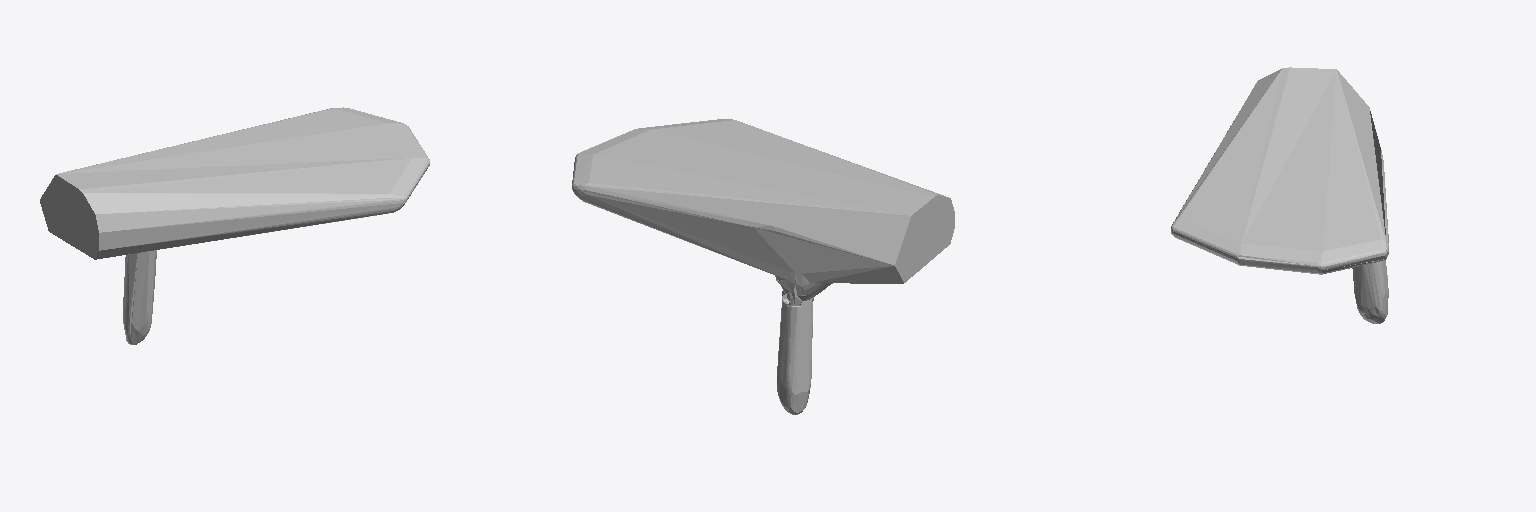
File: armar6-right-hand-full-col.obj
The picture shows the model from 3 angles: view 1: azimuth 30°, elevation 25°; view 2: azimuth 150°, elevation 25°; view 3: azimuth 270°, elevation 25°; orthographic projection.
Bounding box in the file's own units: 0.2806 × 0.1635 × 0.1547.